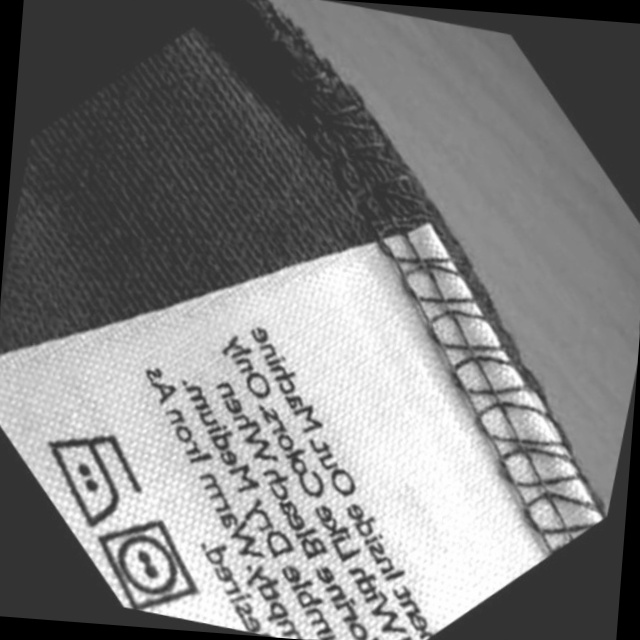iron_medium: (23, 415, 155, 538)
tumble_dry_medium: (78, 504, 214, 624)
